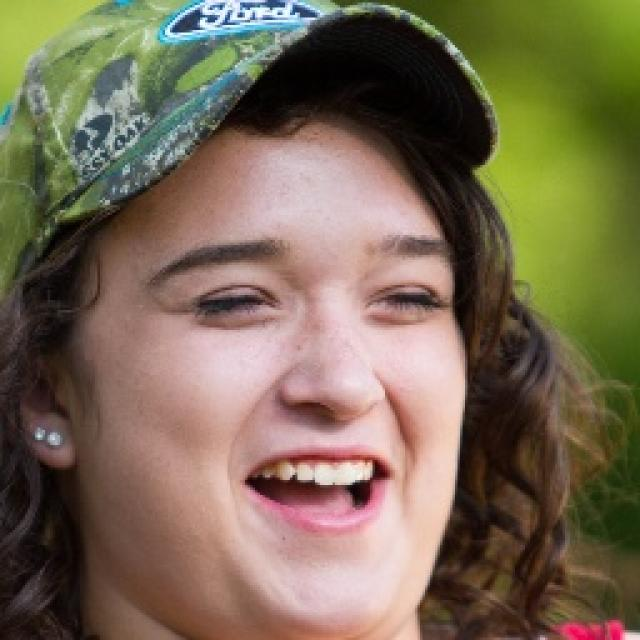earlobe: (1, 328, 81, 471)
